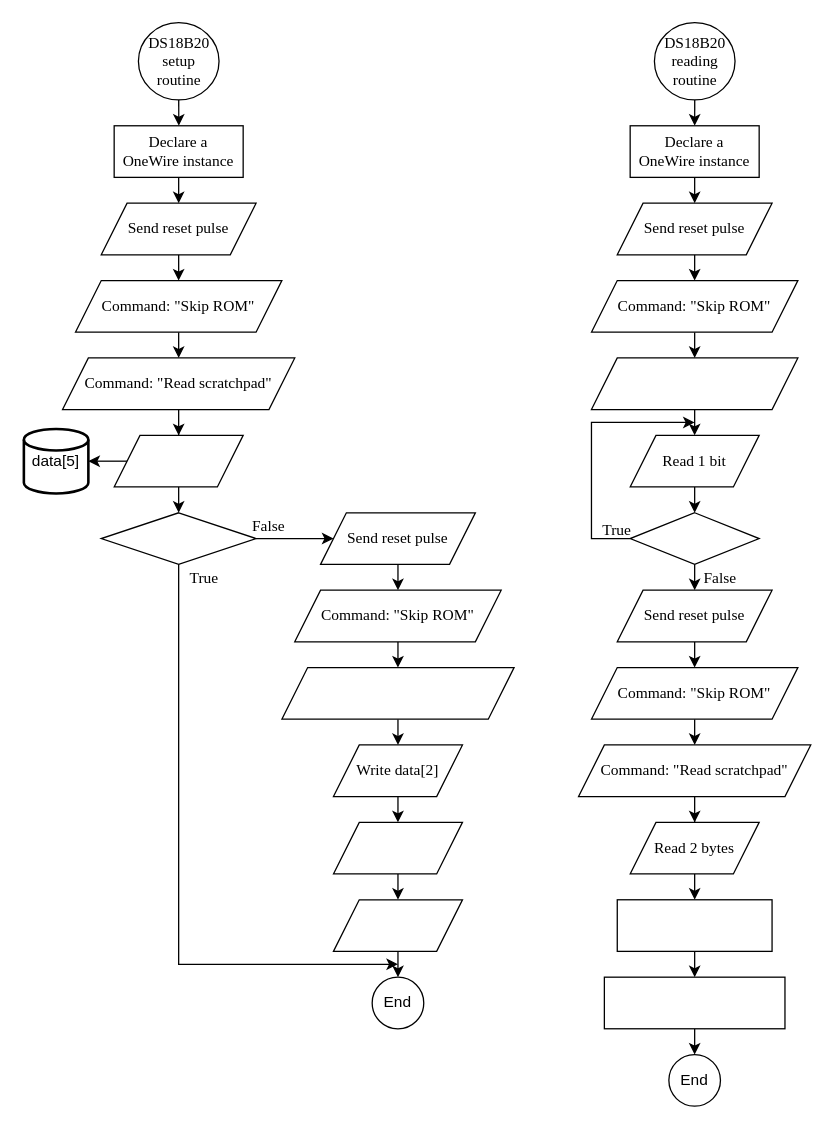
Some shapes in this 833 by 1129 pixel diagram are drawn without their labels. The shapes that lost their labels are listed below. From the top down, each one's box as (x1, y1, x2, y2) in pixels, then its label:
(590, 357, 798, 410): Command: "Convert T"
(113, 434, 243, 487): Read 5 bytes
(100, 511, 256, 564): 0x7F == data[4]
(629, 511, 759, 564): Read bit is 1
(281, 666, 514, 719): Command: "Write scratchpad"
(332, 821, 462, 874): Write data[3]
(332, 898, 462, 951): Write 0x7F
(616, 898, 772, 951): Convert 2 bytes into temperature value
(603, 976, 785, 1029): Respond to global request with temperature value
